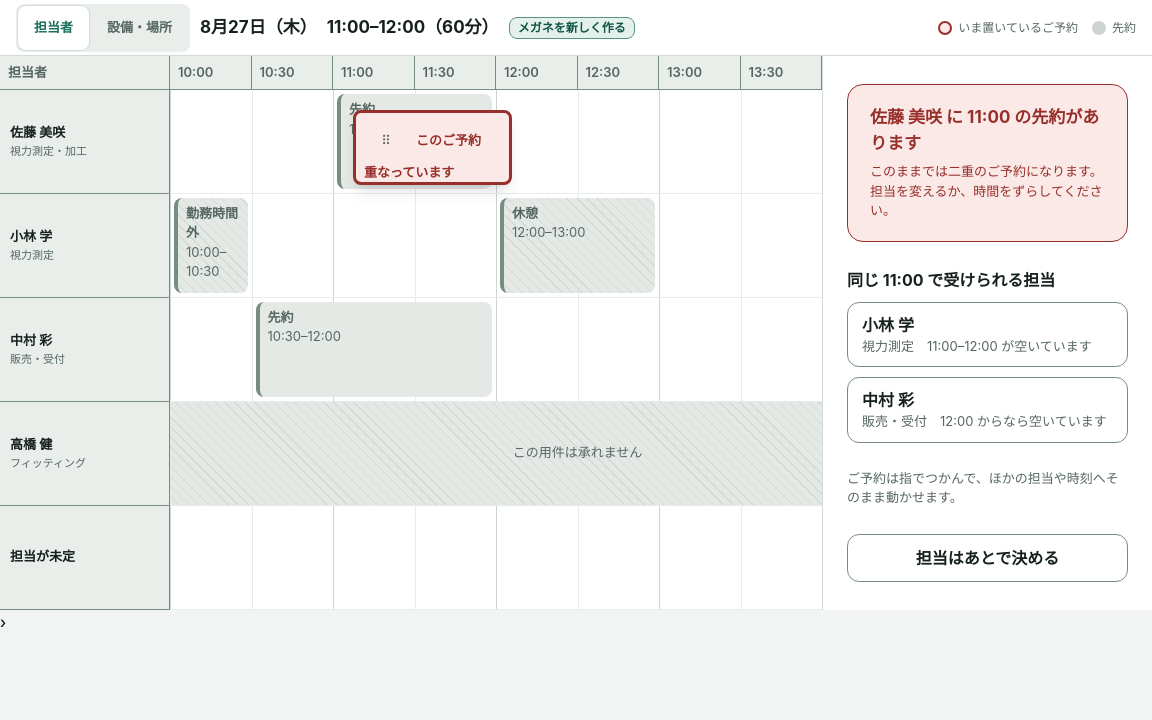
Test case: 軸の切り替え › 担当の行を押していない受付でも、設備の軸へ移ると担当が消えない
Step 1. Click the button "設備・場所" → coordinates (140, 28), box [91, 6, 188, 50]
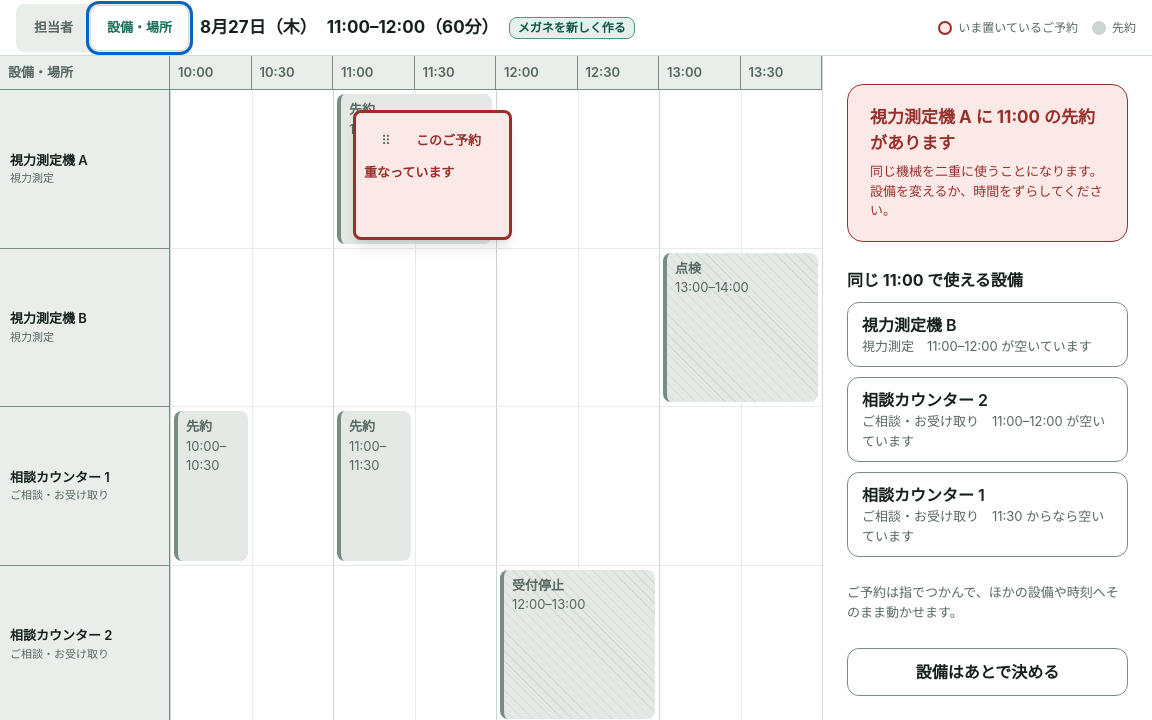
expect the column heading "設備・場所" is shown: met, box [0, 56, 170, 90]
Note: 設備の重なりを解いても担当はそのまま（軸をまたいでも名前を言える）。
Step 2. Click the button "視力測定機 B 視力測定 11:00–12:00 が空いています" → coordinates (909, 324), box [847, 302, 1128, 367]
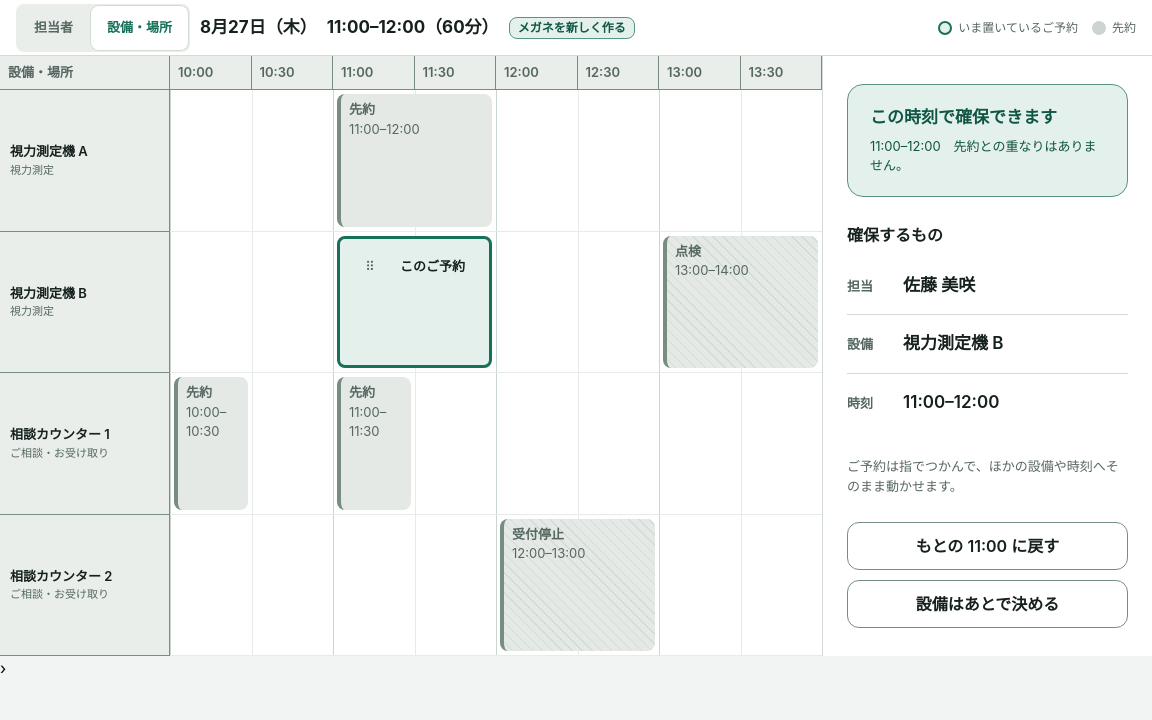
expect the text "佐藤 美咲" is shown: met, box [903, 272, 975, 298]
